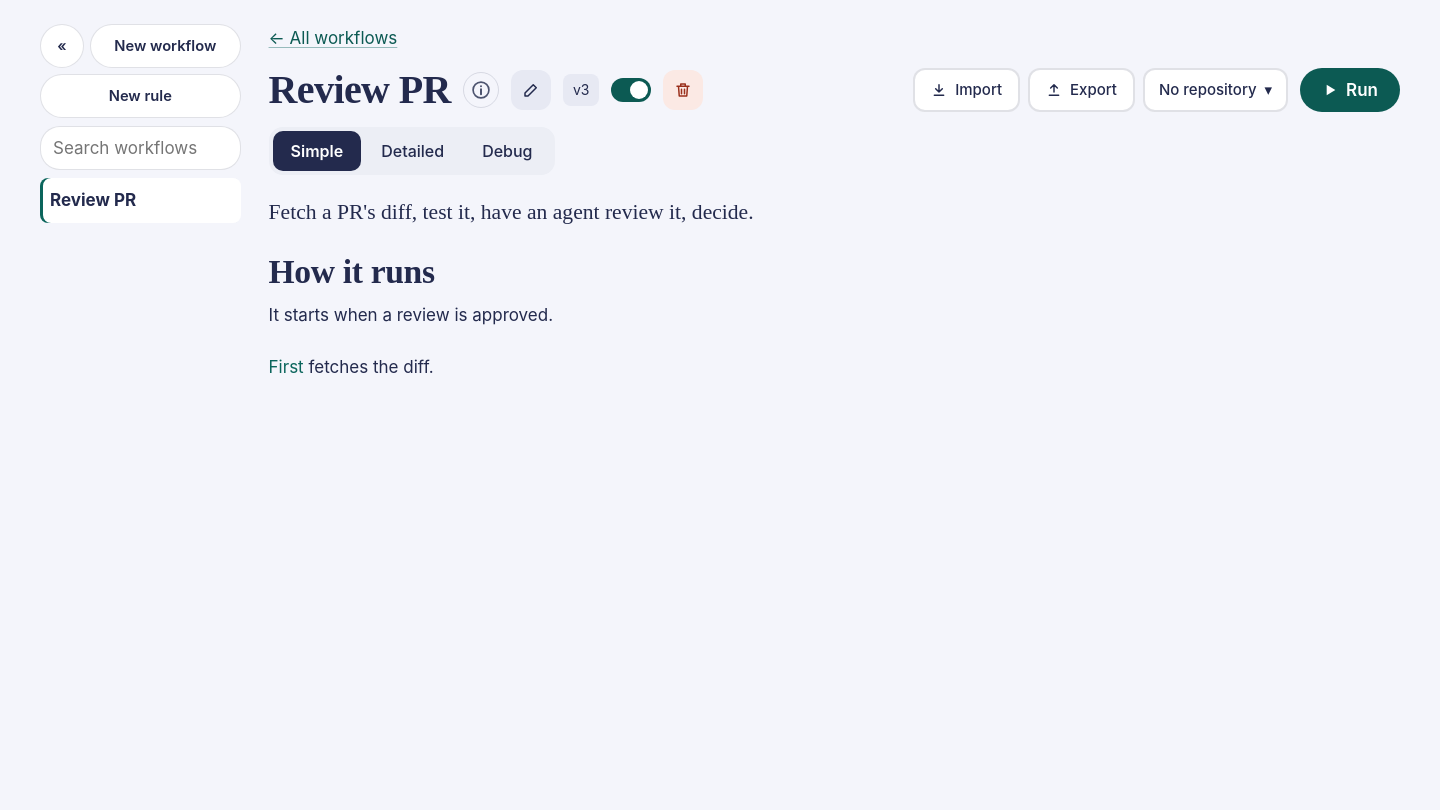
Test case: Simple opens the rule editor (d14) › one side pane at a time: a step then a rule
Click the button "fetches the diff" at (369, 367), box left=308, top=357, right=429, bottom=377
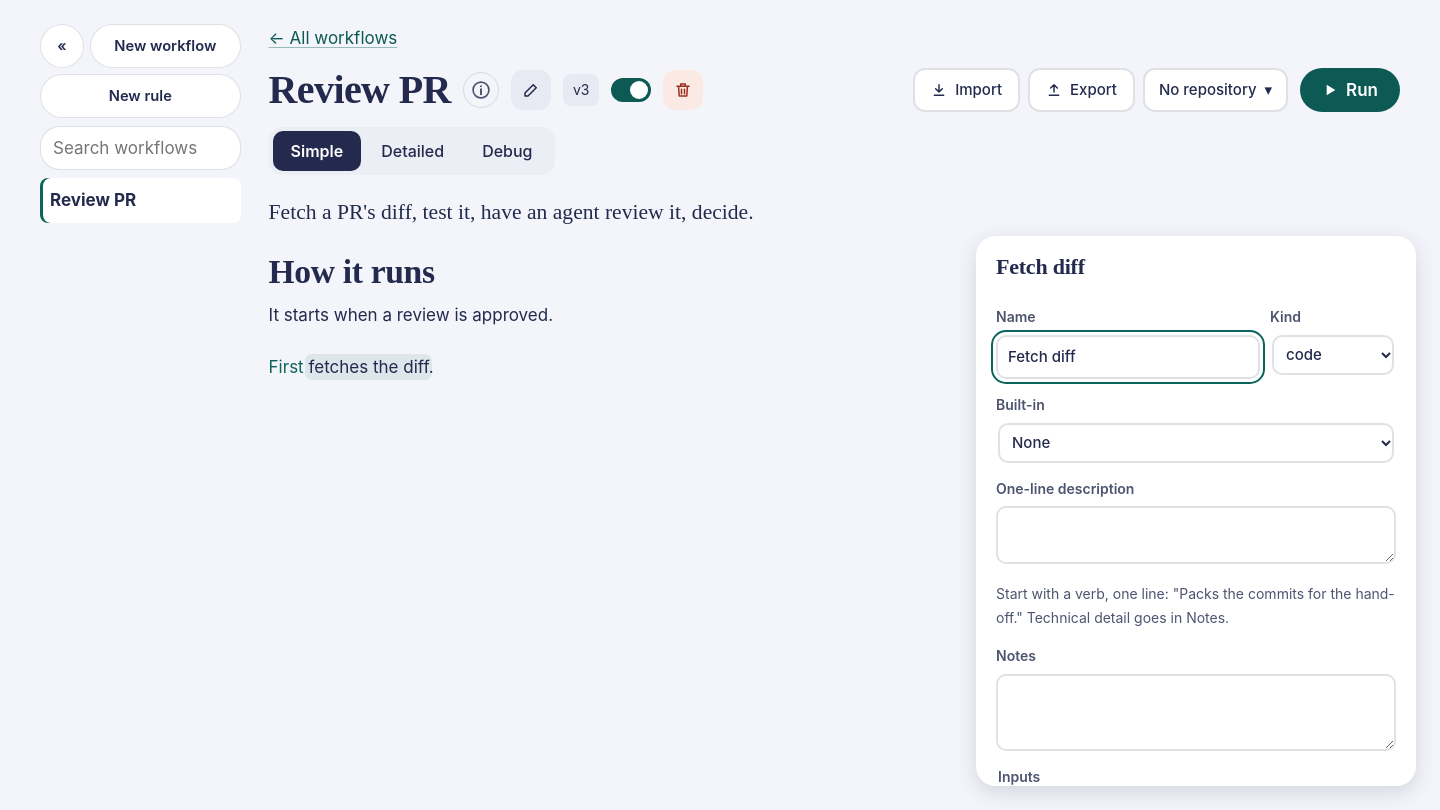
Expected: the dialog named "Edit Fetch diff" is shown, left=976, top=236, right=1416, bottom=786
Click the button "It starts when a review is approved." at (411, 315), box left=269, top=305, right=553, bottom=325
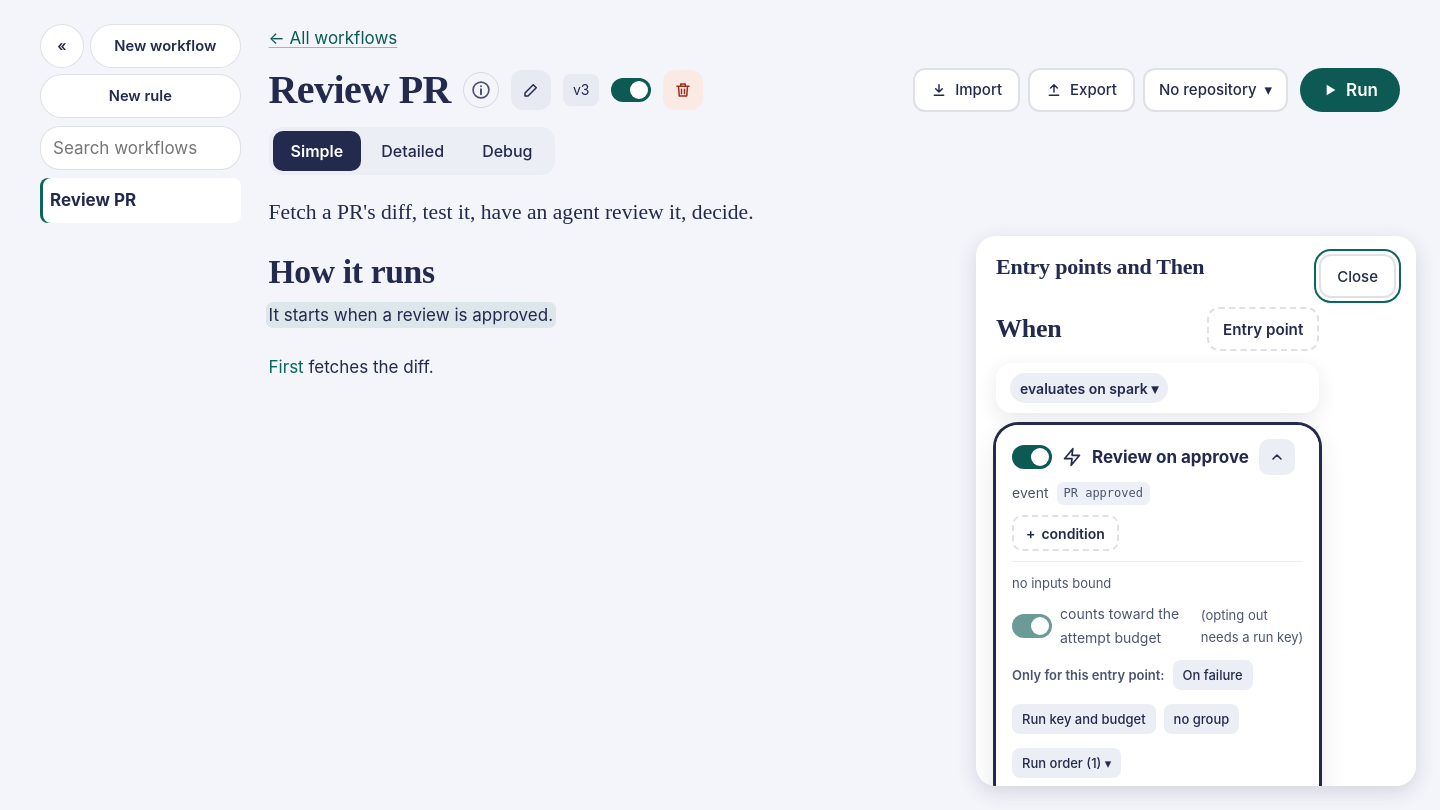
Expected: the dialog named "Rule editor" is shown, left=976, top=236, right=1416, bottom=786
